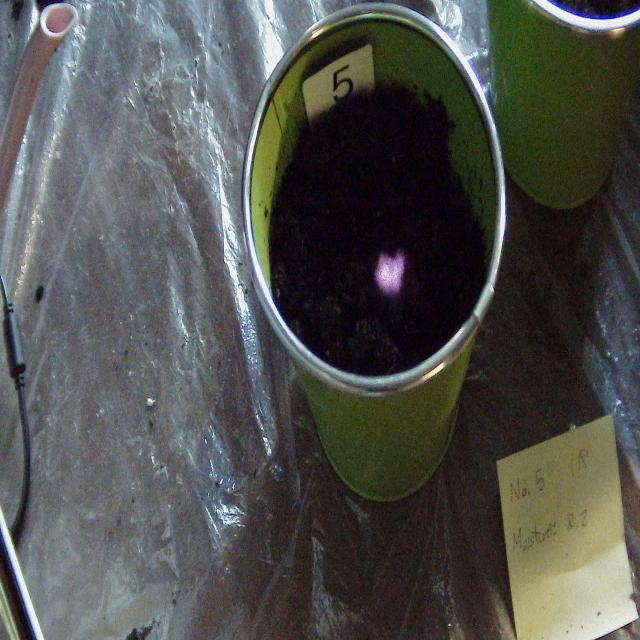soil-moisture-8.2: (374, 252, 409, 296)
